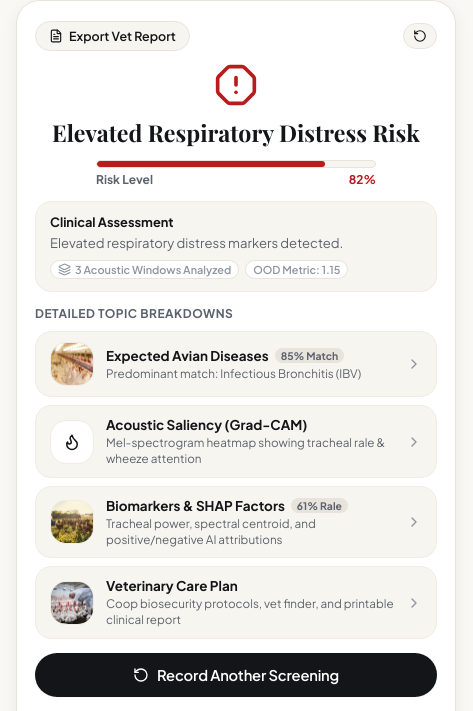
Test case: ResultScreen Topic-Based Multi-Page Component › navigates to Expected Diseases topic page and back to Overview
Click the text "Expected Avian Diseases" at point(187, 356), box [106,347,269,364]
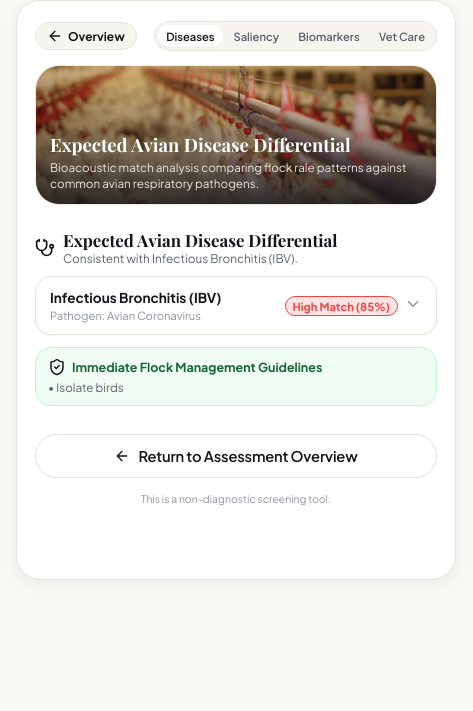
Expected: the 1st heading "Expected Avian Disease Differential" is shown, [50,132,351,158]
Expected: the text "Infectious Bronchitis (IBV)" is shown, [50,289,221,306]
Click back to Overview
Click the button with aria-label "Back to Overview" at point(86, 36), box [35,22,137,50]
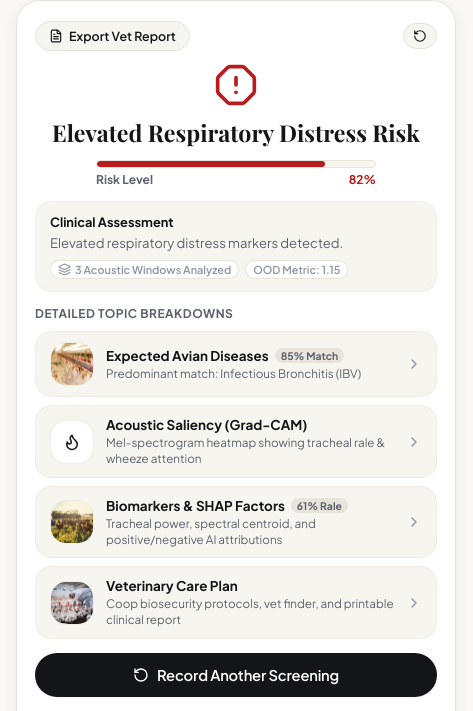
Expected: the heading "Detailed Topic Breakdowns" is shown, [35,306,233,321]
